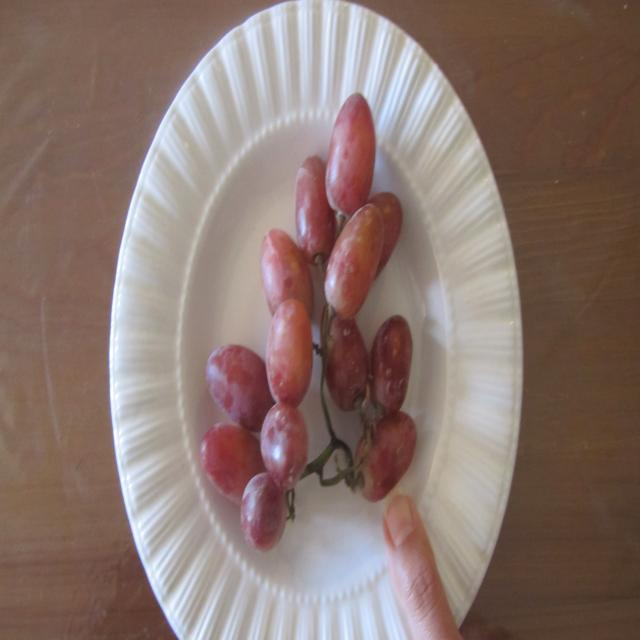grape: (174, 85, 422, 568)
